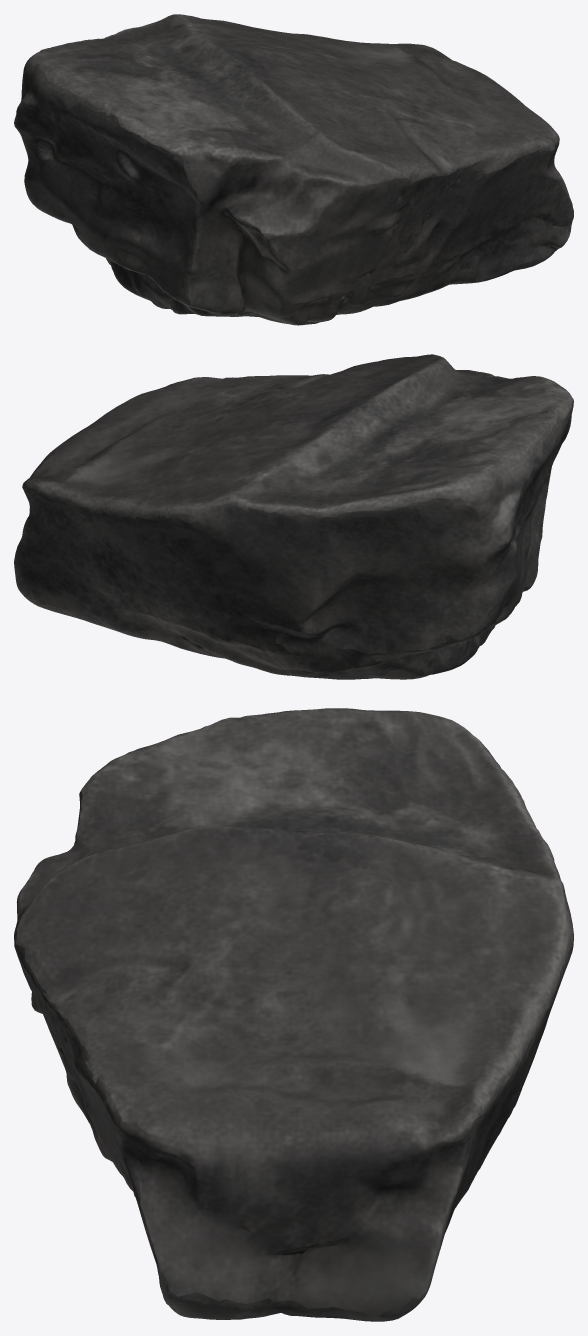
3 views of the same model, one above another, from view 1: azimuth 30°, elevation 25°; view 2: azimuth 150°, elevation 25°; view 3: azimuth 270°, elevation 25° (orthographic). The views are drawn at different scales.
Parts seen in each view (by area): view 1: world; view 2: world; view 3: world.
Boxes of the visible parts, x1,y1,x2,y2 form: world: (14,14,573,325); world: (14,354,573,679); world: (14,708,573,1321).
Size of the model in its own units: 3.5 by 1.75 by 2.67.
1 material, 1 textured.
